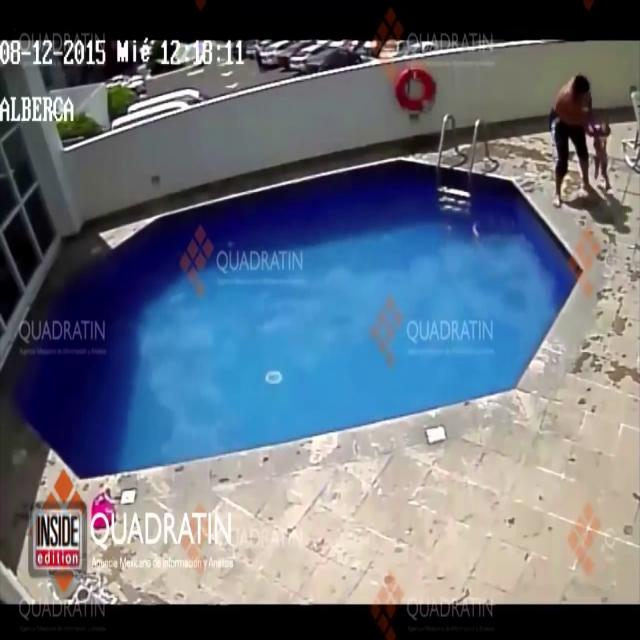adult: (551, 71, 591, 207)
child: (594, 120, 616, 190)
